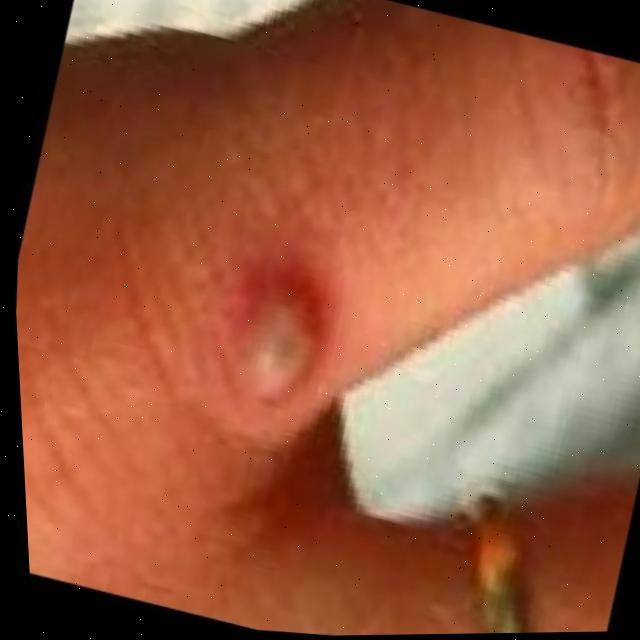Eczema: (238, 295, 316, 389)
